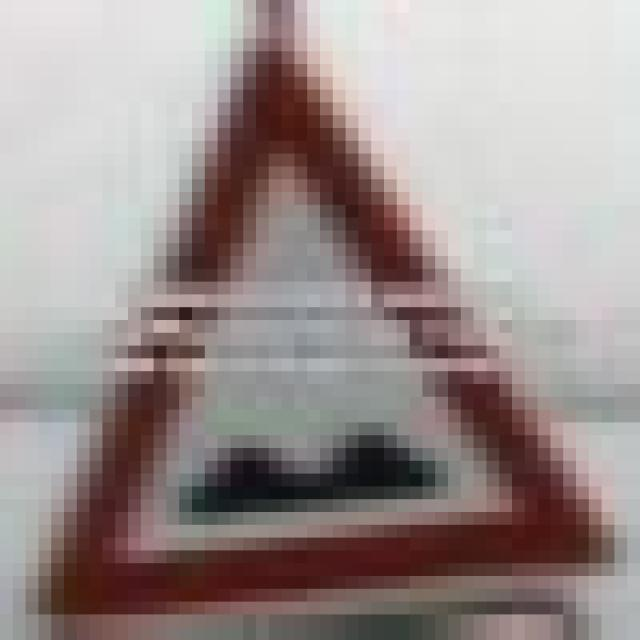horn_prohibited: (26, 39, 627, 602)
